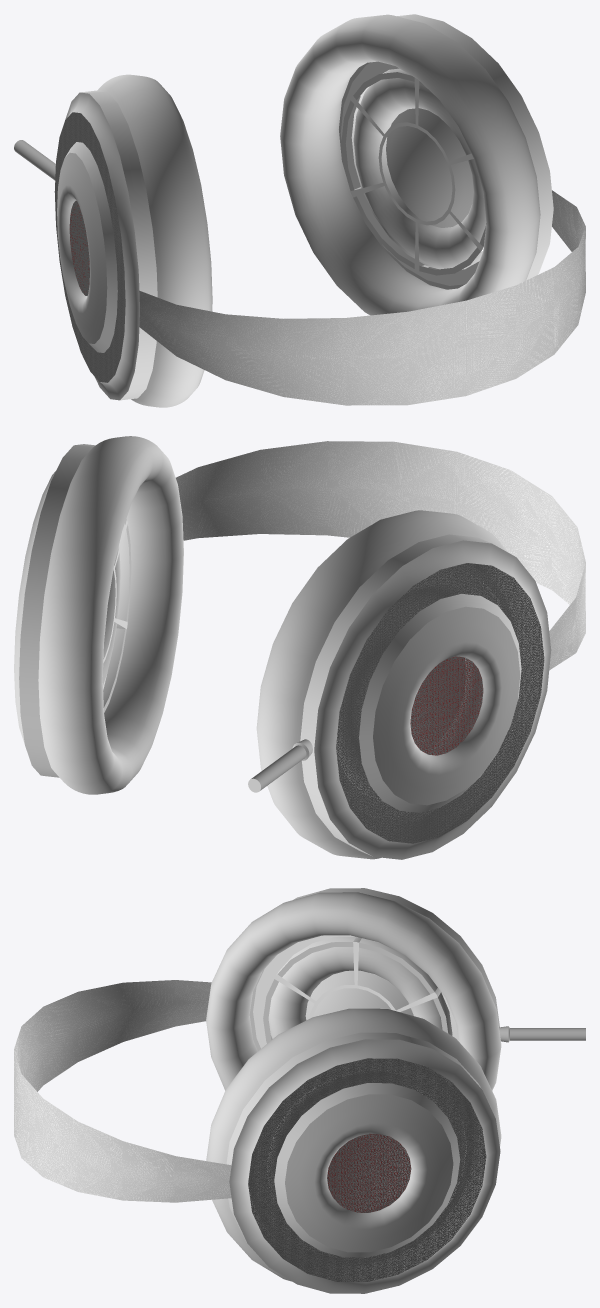
Rendered from model_align.obj.
3 views of the same model, one above another, from view 1: azimuth 30°, elevation 25°; view 2: azimuth 150°, elevation 25°; view 3: azimuth 270°, elevation 25° (orthographic). The views are drawn at different scales.
Visible parts, largest first — view 1: mesh1_mesh1-geometry; view 2: mesh1_mesh1-geometry; view 3: mesh1_mesh1-geometry.
Part boxes in pixels (x1,y1,x2,y2): mesh1_mesh1-geometry: [14, 14, 585, 407]; mesh1_mesh1-geometry: [14, 436, 585, 859]; mesh1_mesh1-geometry: [14, 888, 585, 1293].
Bounding box in the file's own units: 0.1277 × 0.0882 × 0.1663.
